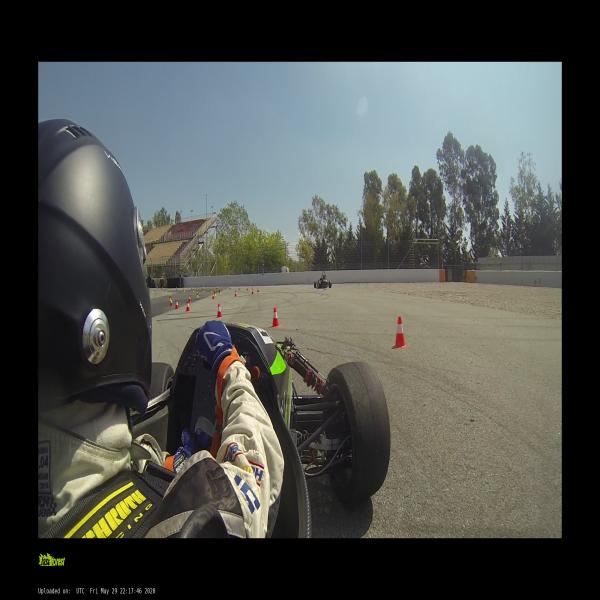orange_cone: (392, 317, 408, 348), (270, 307, 281, 328), (216, 304, 222, 318), (174, 299, 179, 309), (186, 302, 190, 312), (169, 299, 174, 307), (233, 290, 238, 298), (211, 293, 215, 300), (188, 295, 191, 303), (256, 288, 260, 293), (251, 288, 254, 294), (251, 286, 254, 292), (246, 286, 248, 291)
yellow_cone: (195, 291, 199, 298), (218, 288, 222, 294), (213, 290, 217, 296), (169, 295, 171, 301), (210, 288, 212, 293), (202, 288, 204, 293), (192, 288, 194, 292), (183, 288, 185, 292)
